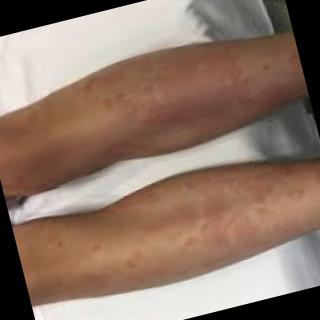urticaria: (148, 198, 285, 243), (113, 75, 254, 115)
